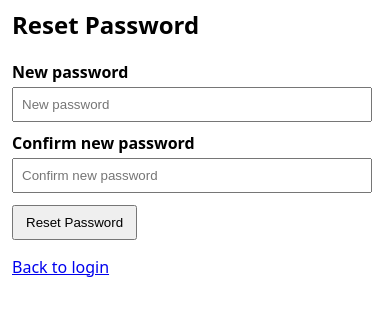
Test: ResetPassword page › submits payload with token and URL context
Type "Pass1234" into the password field with placeholder "New password" at (192, 104), box [12, 87, 372, 122]
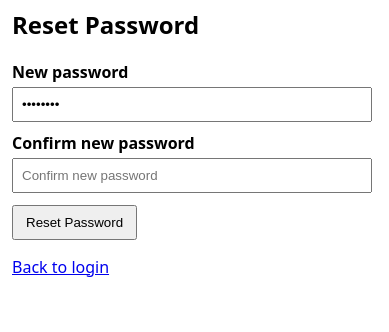
Type "Pass1234" into the password field with placeholder "Confirm new password" at (192, 175), box [12, 158, 372, 193]
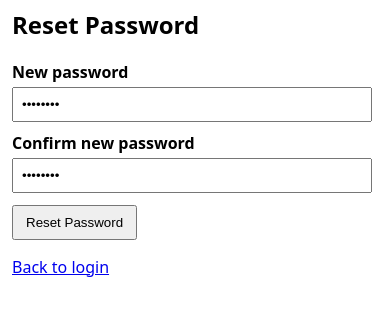
Click the button "Reset Password" at (74, 222), box [12, 205, 137, 240]
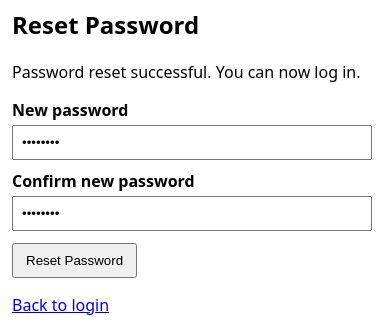
Now the text "Password reset successful. You can now log in." is shown, box [12, 61, 360, 83]
